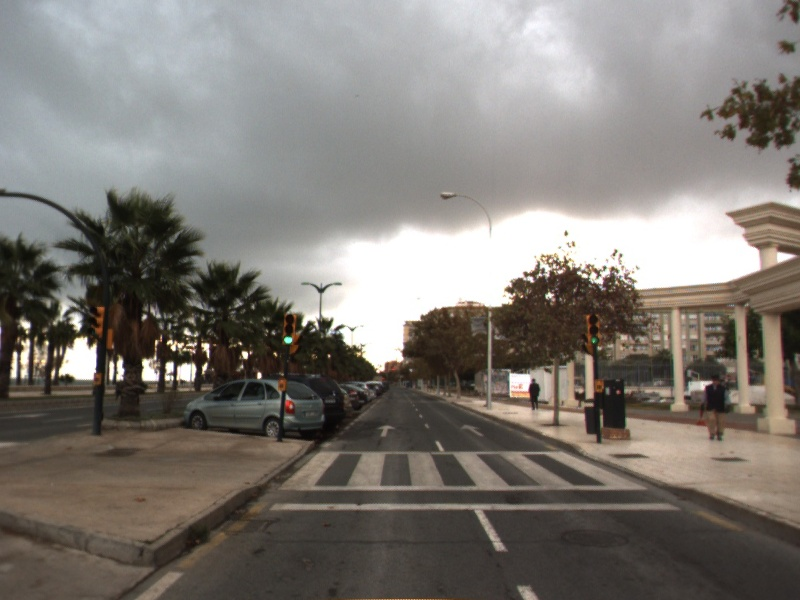STRAIGHT: (458, 422, 486, 439), (375, 422, 399, 440)
